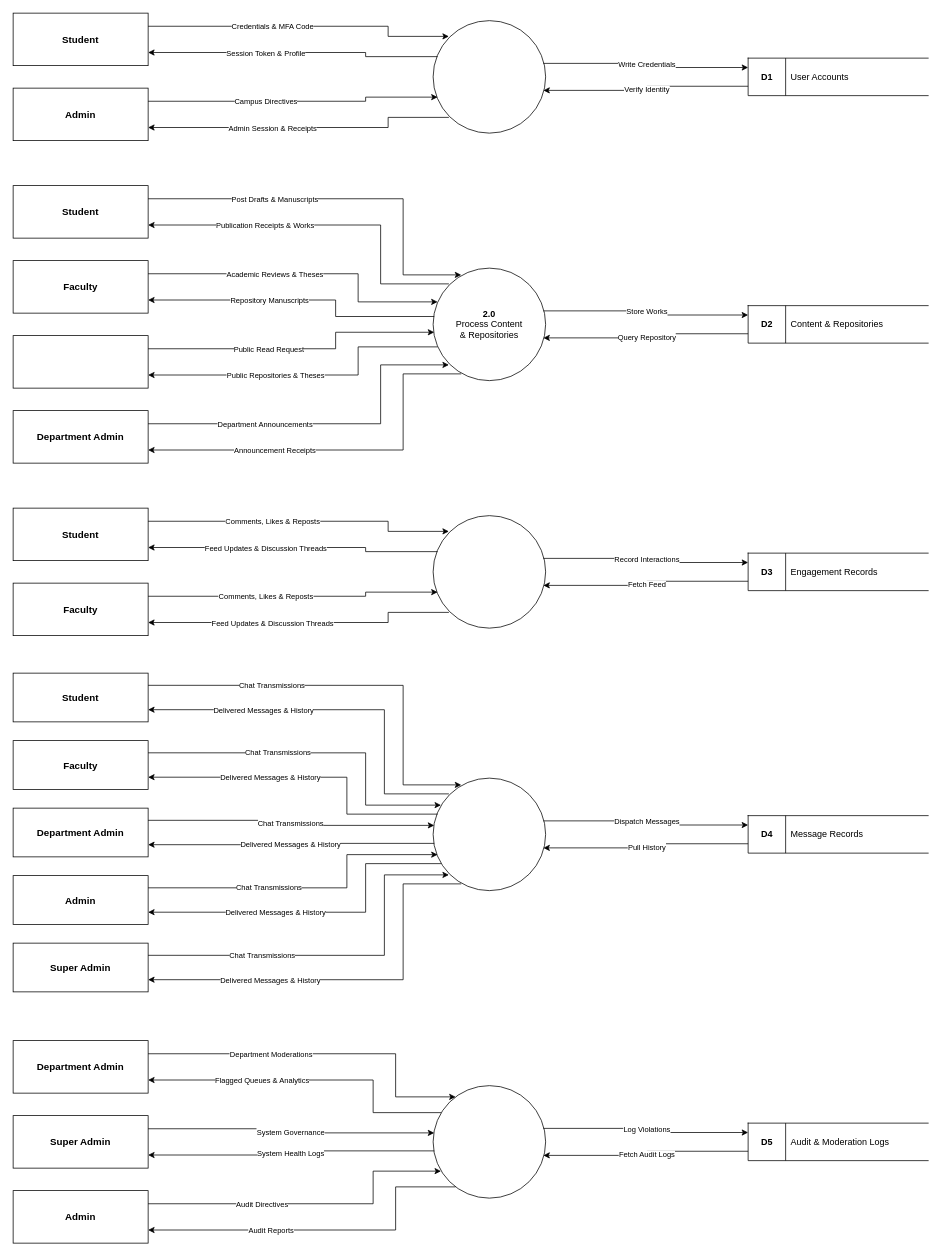
This 941x1256 diagram has some shape labels left out. The shapes that lost their labels are listed below. From the top down, each one's box as (x1, y1, x2, y2) in pixels, then its label:
(432, 20, 546, 133): 1.0 Manage Identity & Access
(12, 335, 148, 388): Guest
(432, 515, 546, 628): 3.0 Process Social Feed & Interactions
(432, 777, 546, 891): 4.0 Process Real-Time Messaging
(432, 1085, 546, 1198): 5.0 Manage Moderation & Governance
